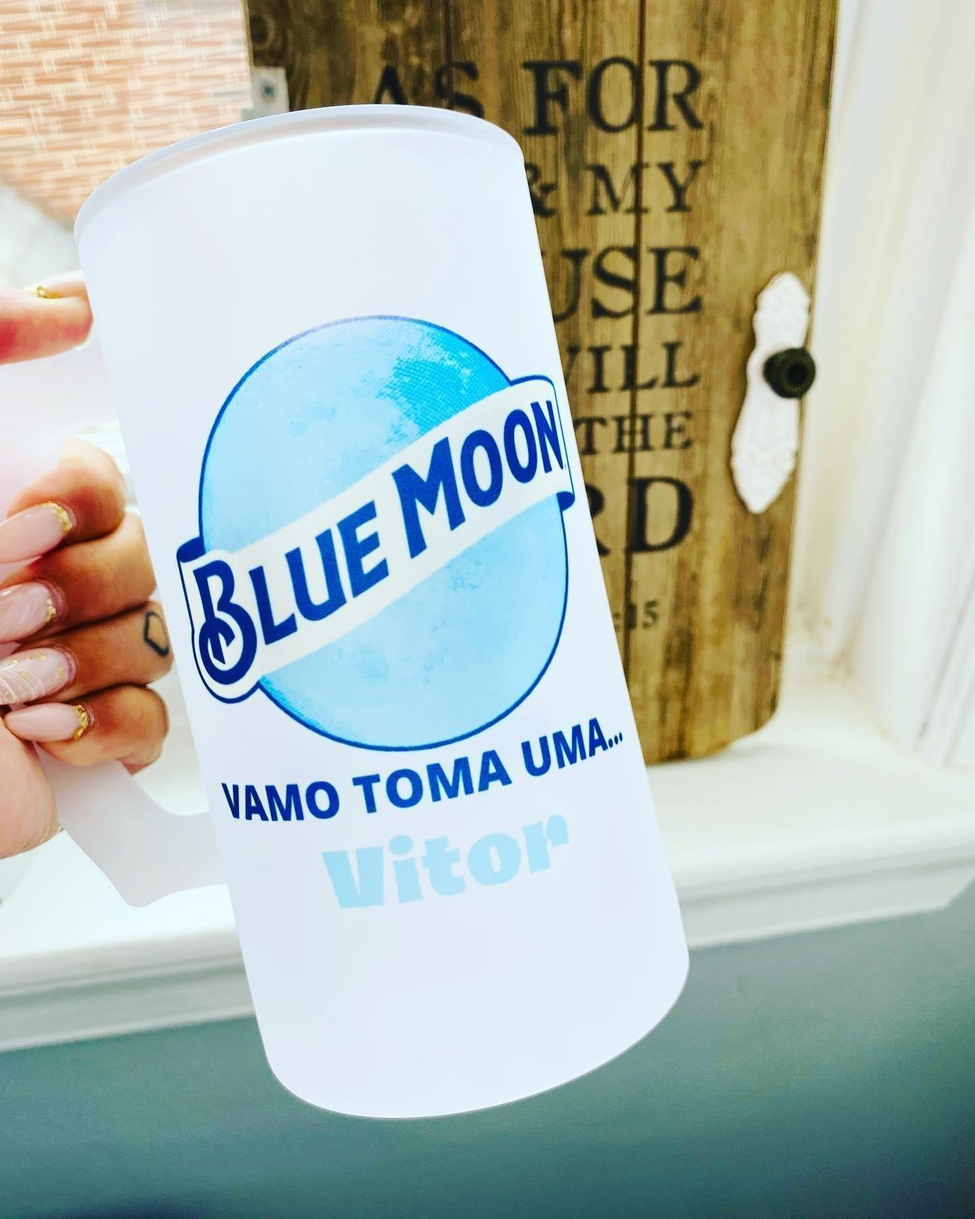glass-mug: (0, 64, 723, 1141)
